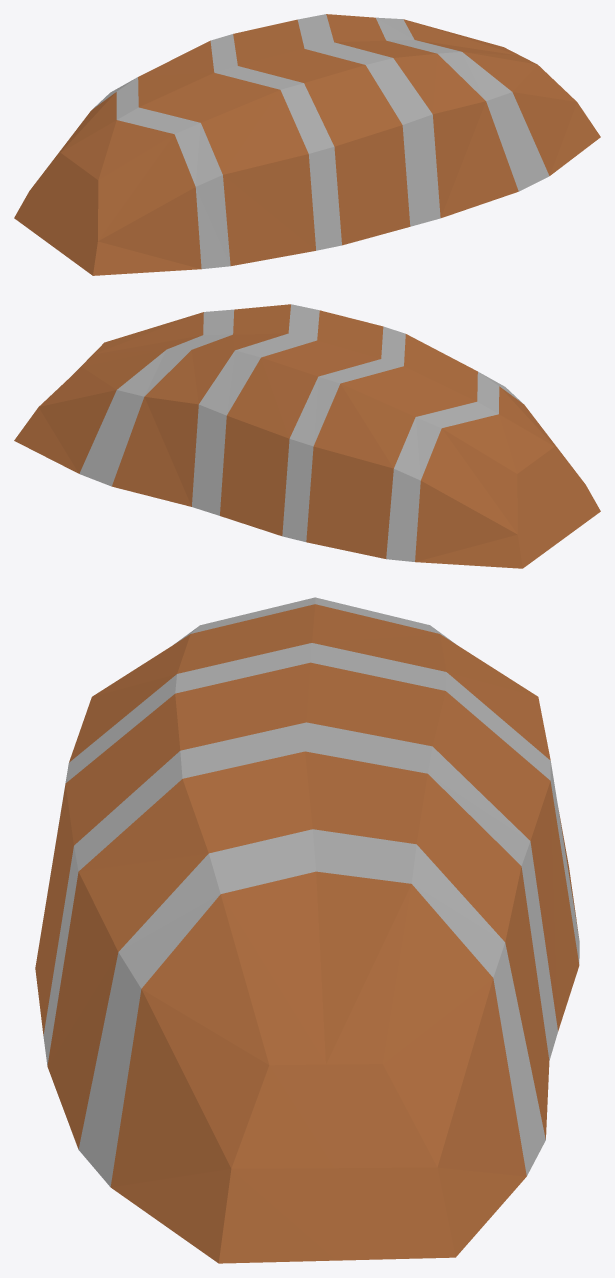
The model's file is Sashimi_Salmon.glb.
3 views of the same model, one above another, from view 1: azimuth 30°, elevation 25°; view 2: azimuth 150°, elevation 25°; view 3: azimuth 270°, elevation 25° (orthographic). The views are drawn at different scales.
Visible parts, largest first — view 1: Salmon; view 2: Salmon; view 3: Salmon.
Boxes of the visible parts, box(x1,y1,x2,y2) form: Salmon: box(14, 14, 600, 275); Salmon: box(14, 304, 600, 568); Salmon: box(35, 597, 579, 1263).
Bounding box in the file's own units: 0.5976 × 0.1518 × 0.2715.
